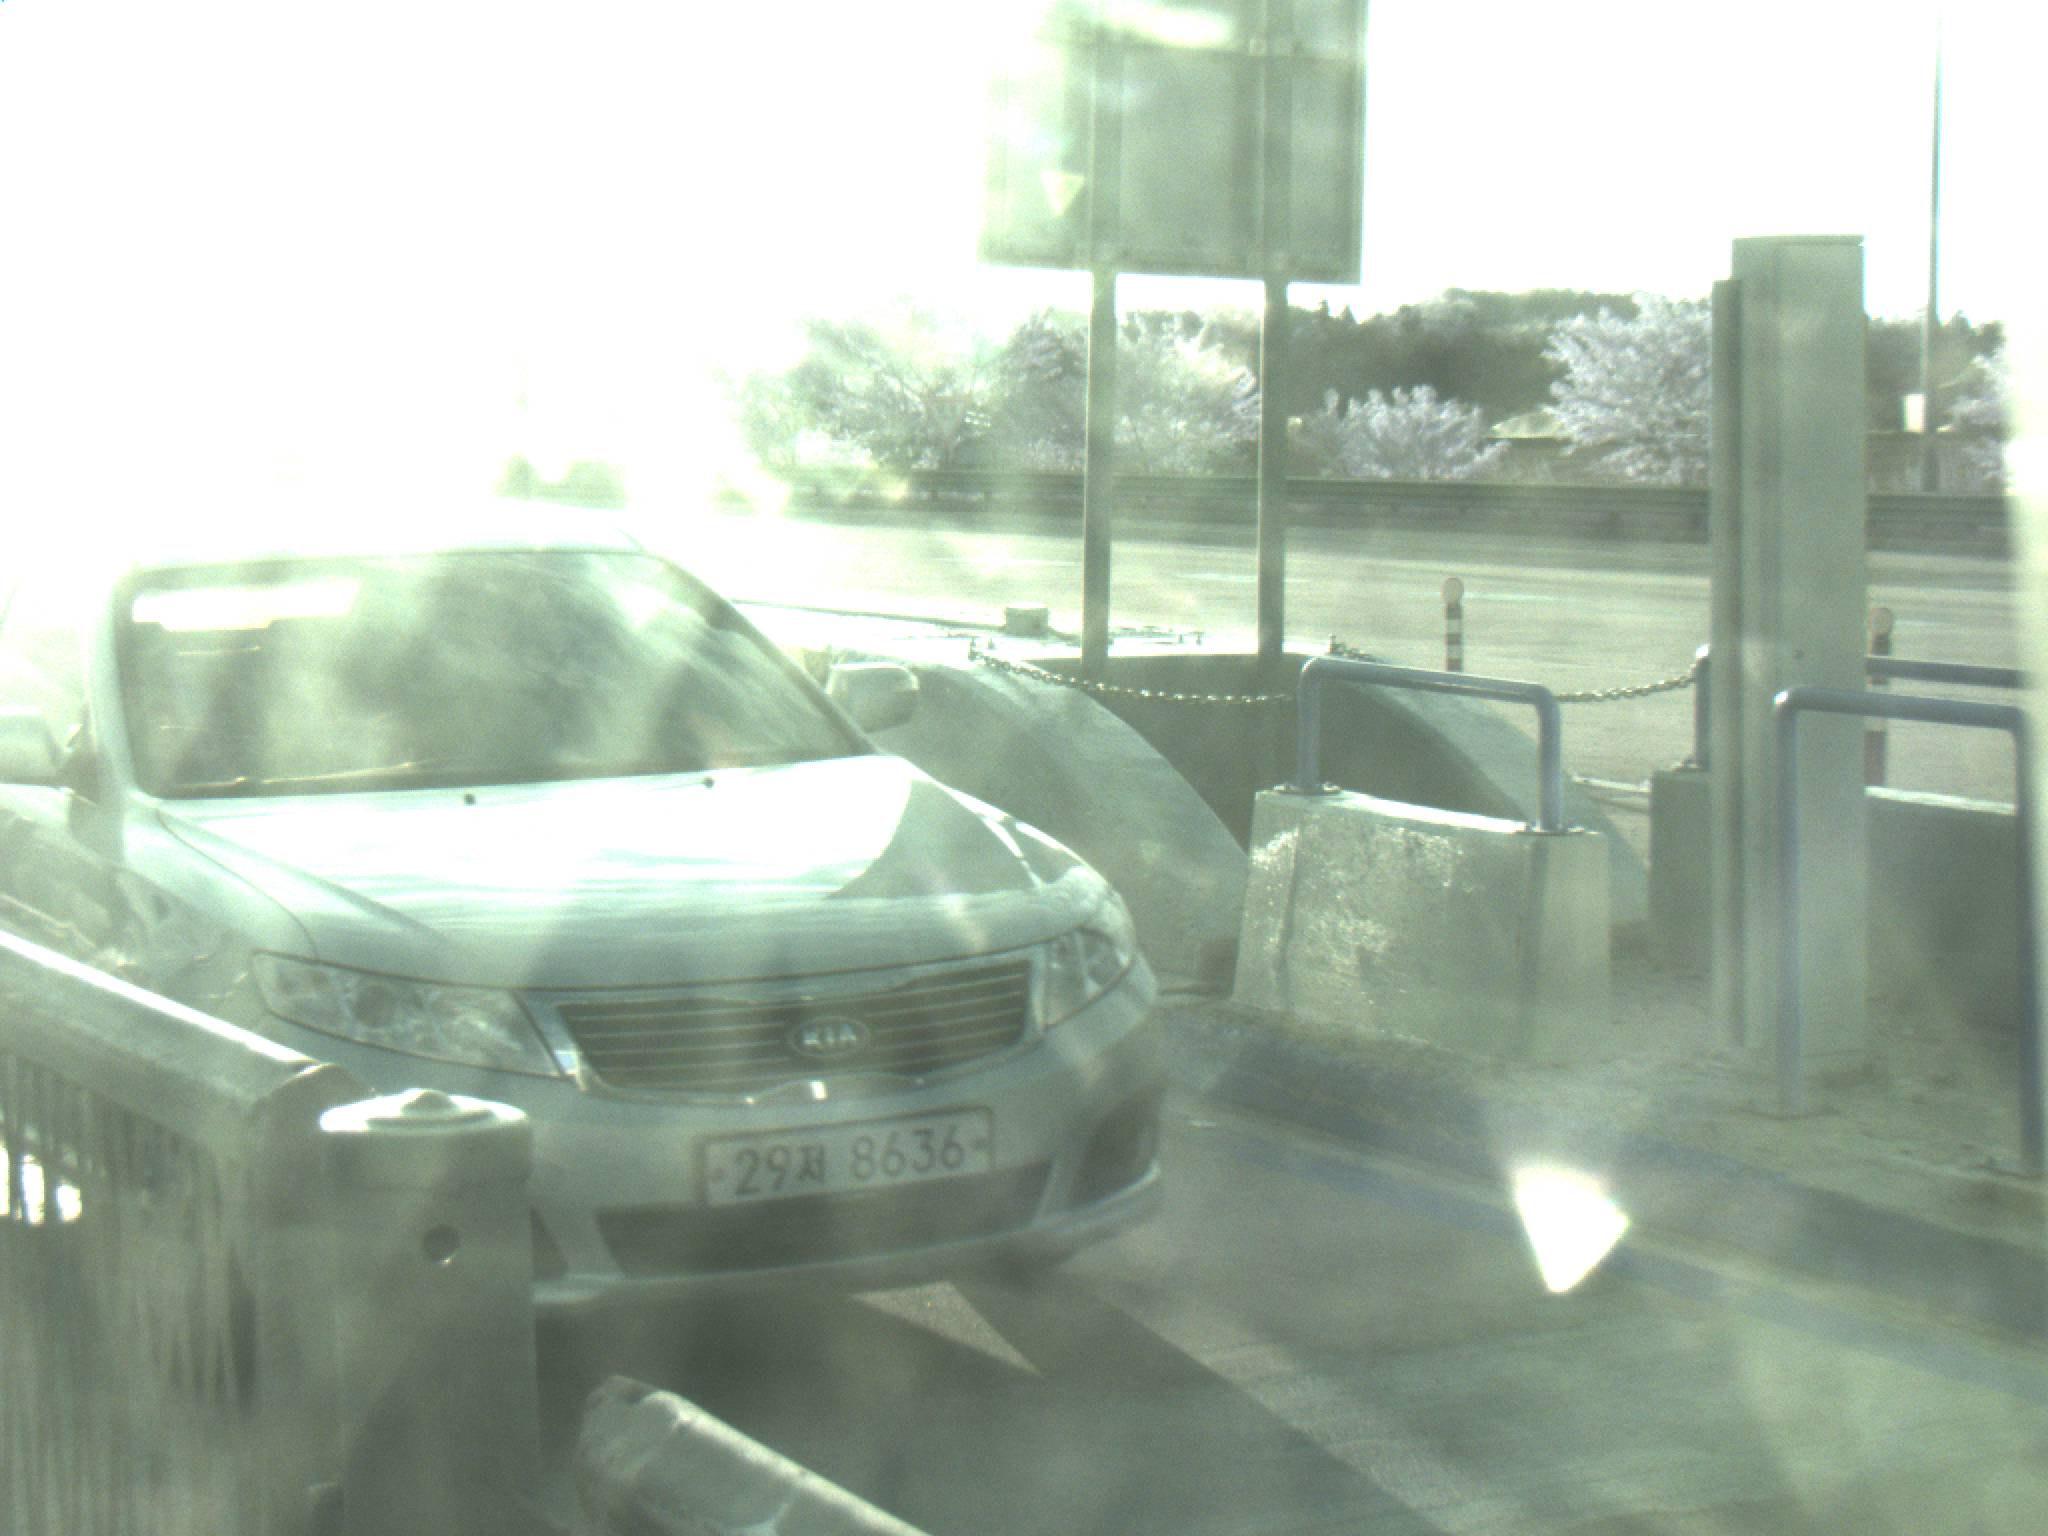car: (1, 513, 1178, 1413)
plate: (691, 1104, 999, 1211)
